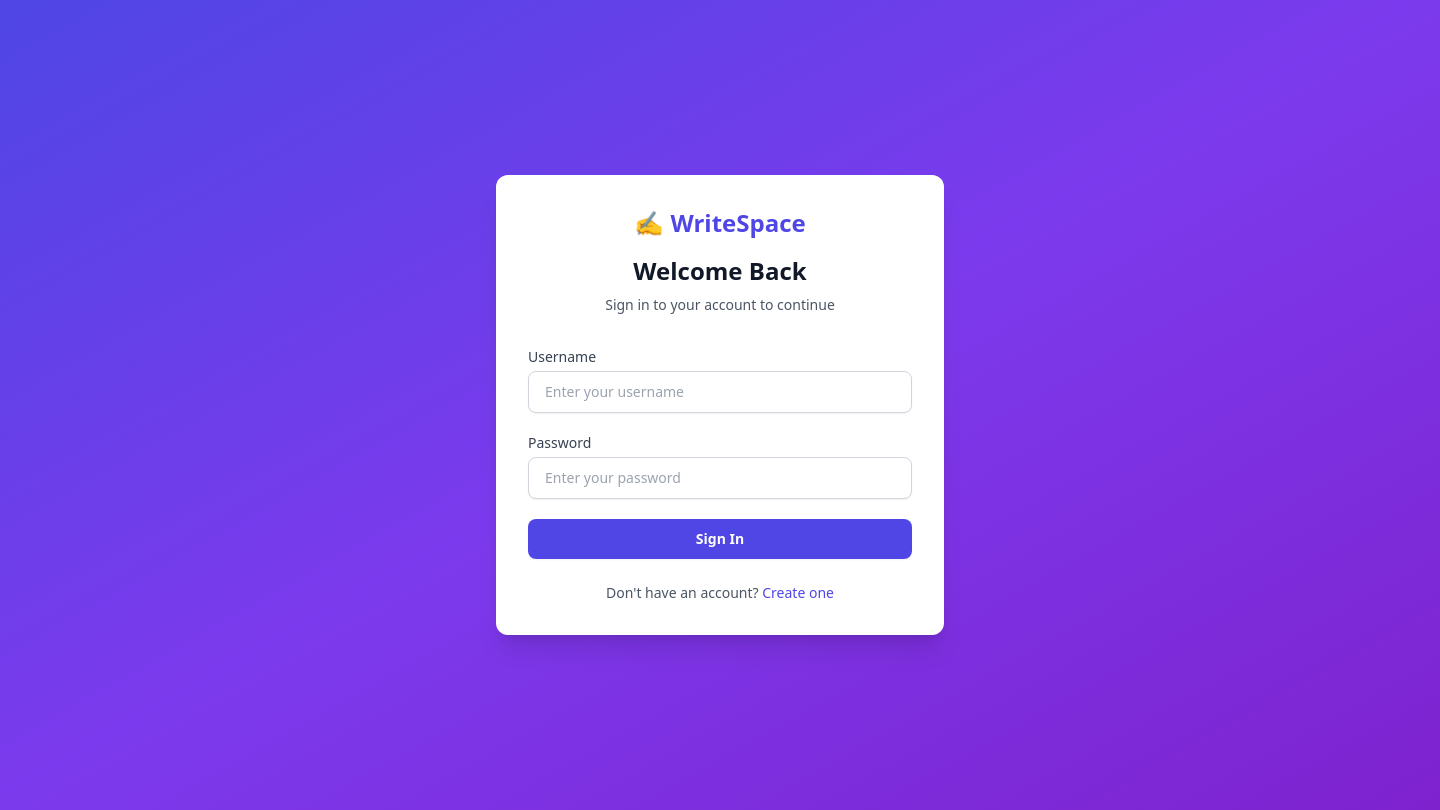
Test case: LoginPage › Failed login › displays error message when fields are empty
Click the button "Sign In".
click(720, 539)  # box [528, 519, 912, 559]
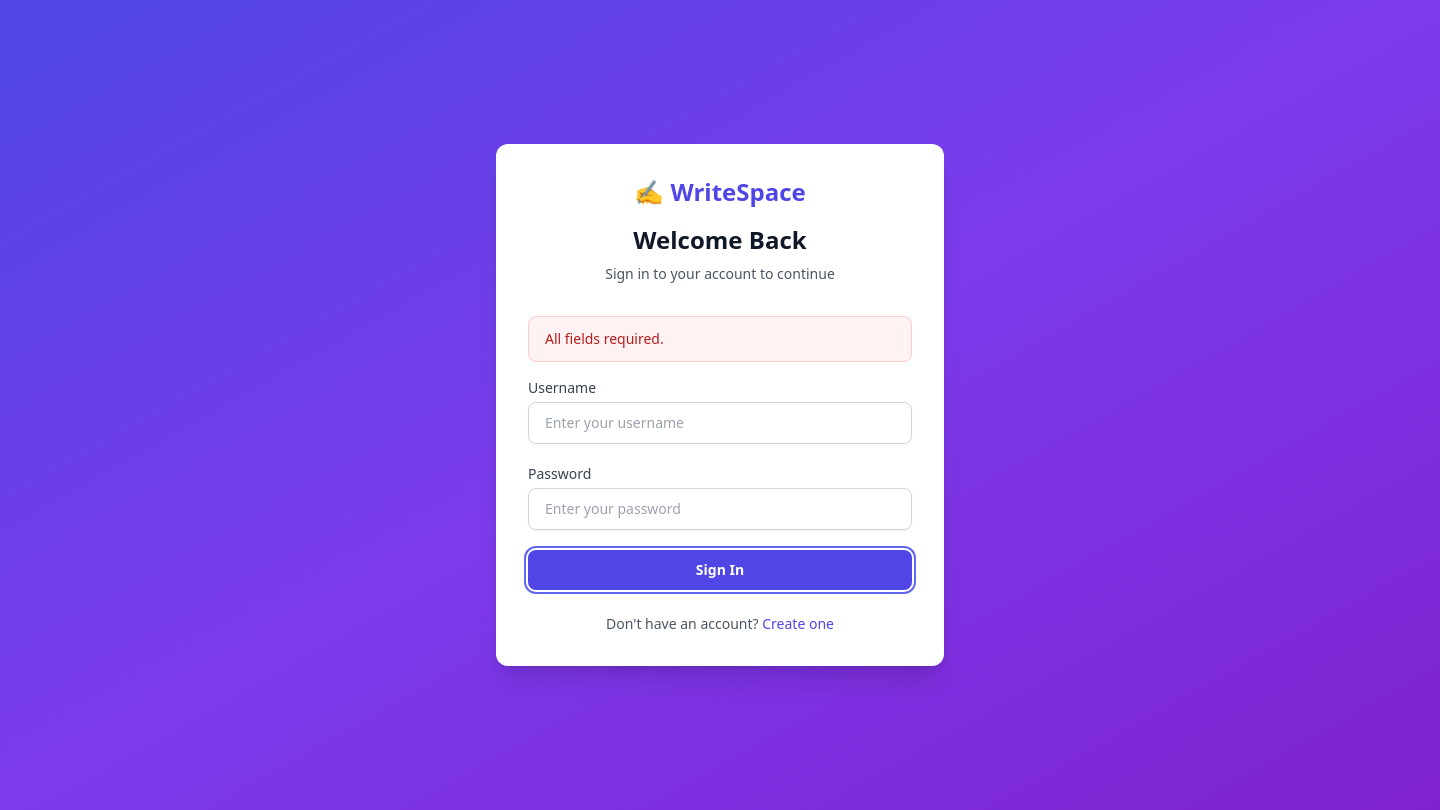
expect the text "All fields required." is shown: met, box [528, 316, 912, 362]
